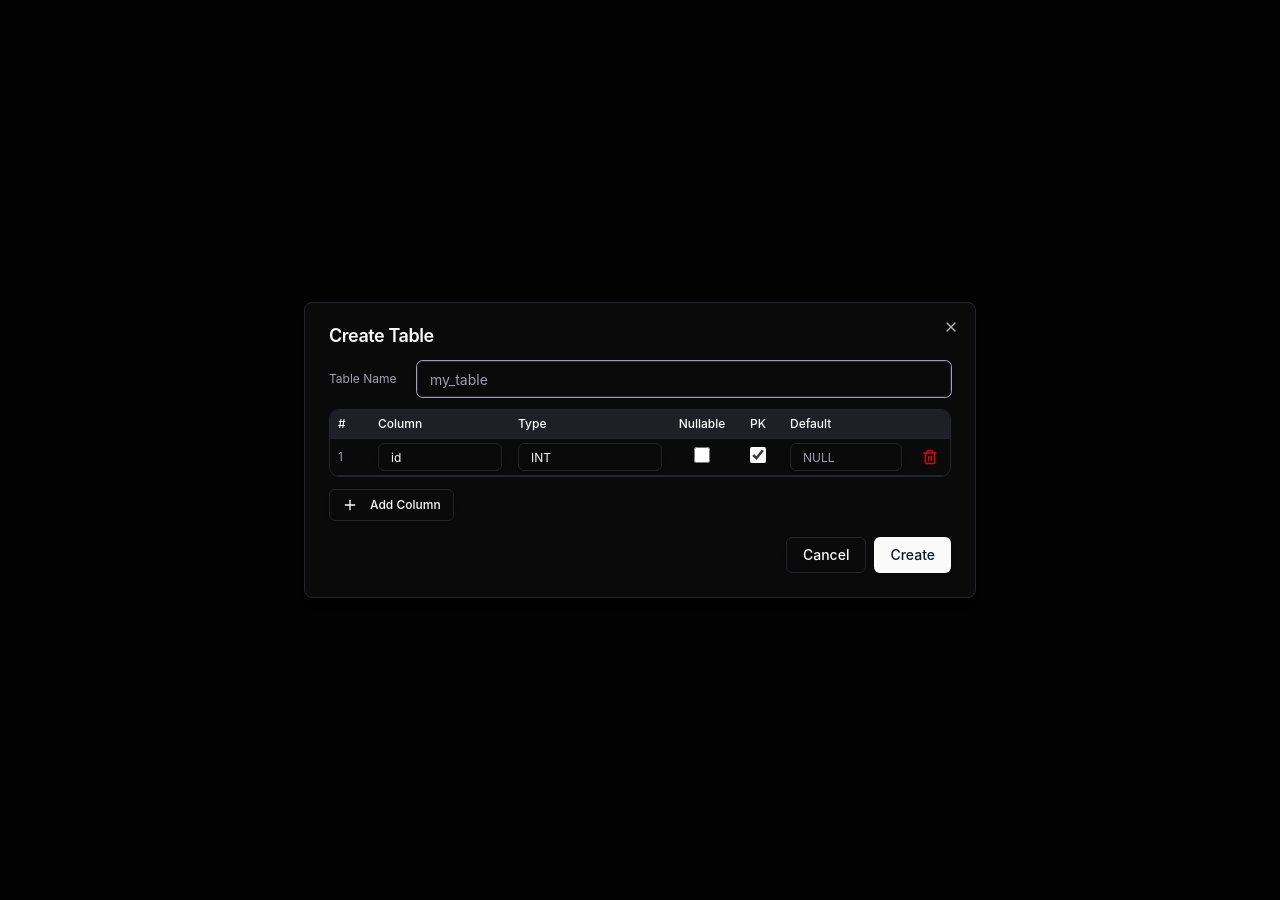
Test: shows error when table name is empty and create clicked
What coordinates should you click on to do the following:
click the button "Create"
I would click on:
 (913, 555)
Its box is [874,537,951,573].
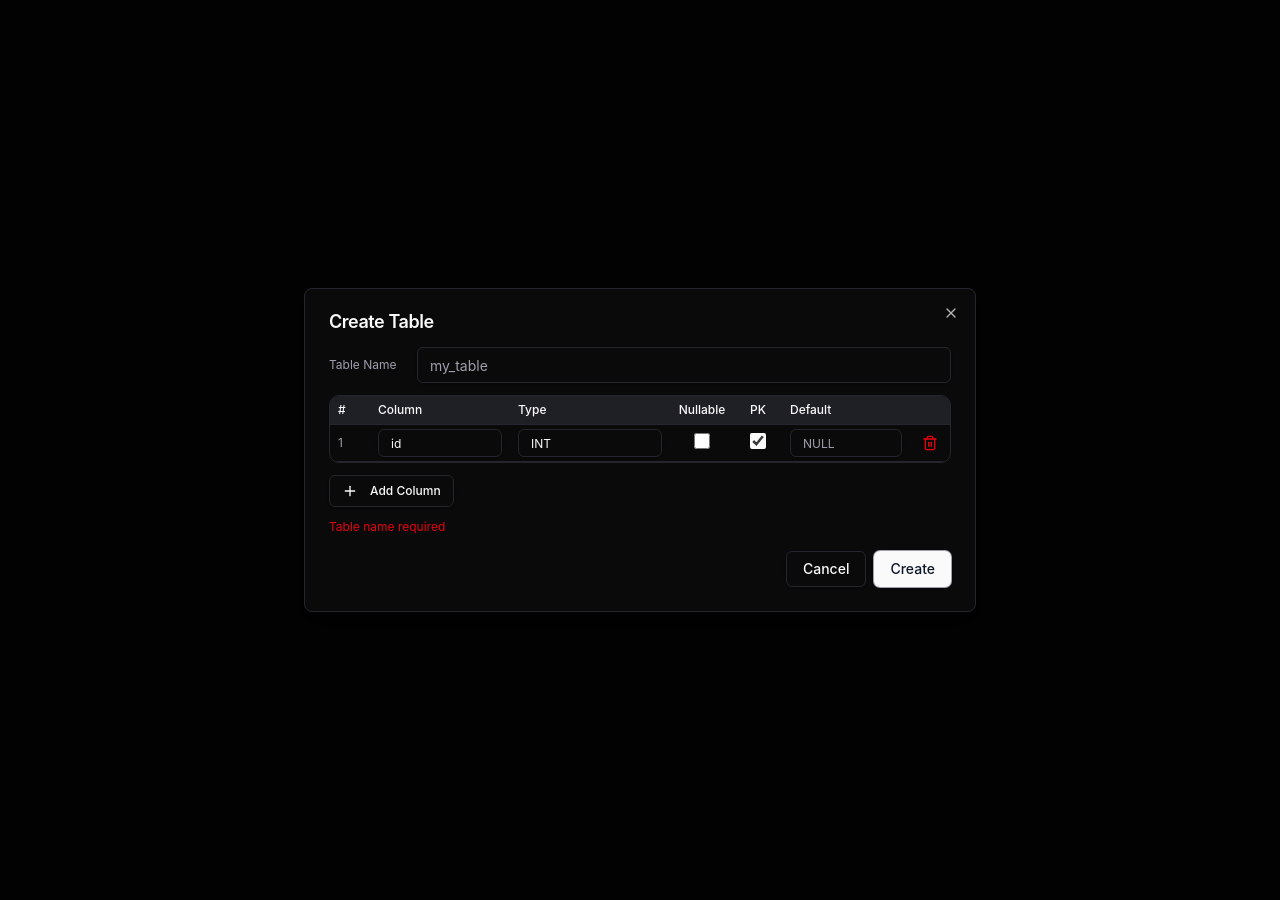
Expected: the text "Table name required" is shown, [329,519,445,534]
